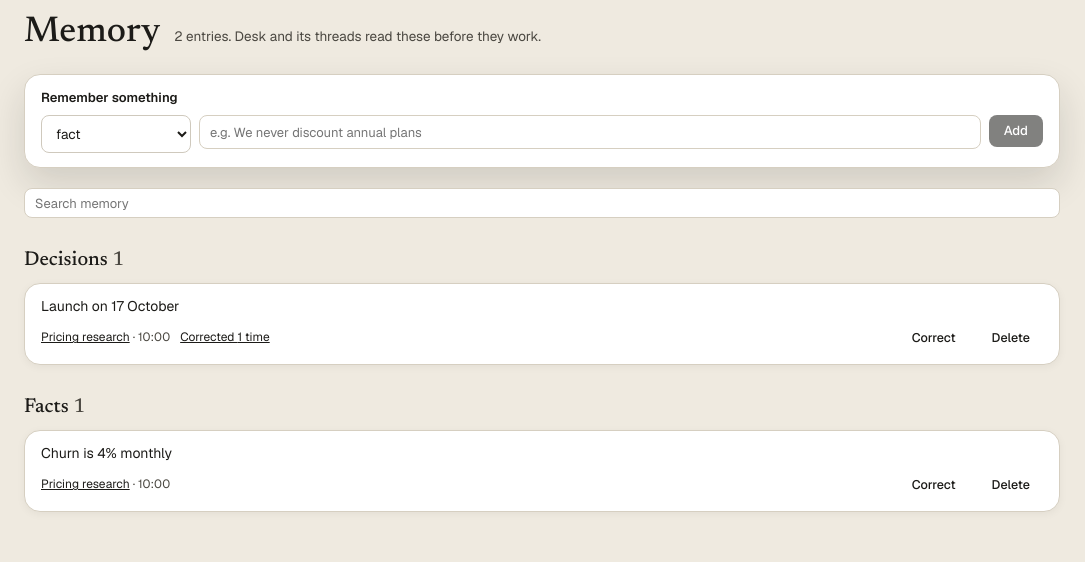
MemoryScreen › groups entries by kind with sources and the correction chain
Click the button "Corrected 1 time". click: (225, 338)
box: x1=180 y1=329 x2=270 y2=347
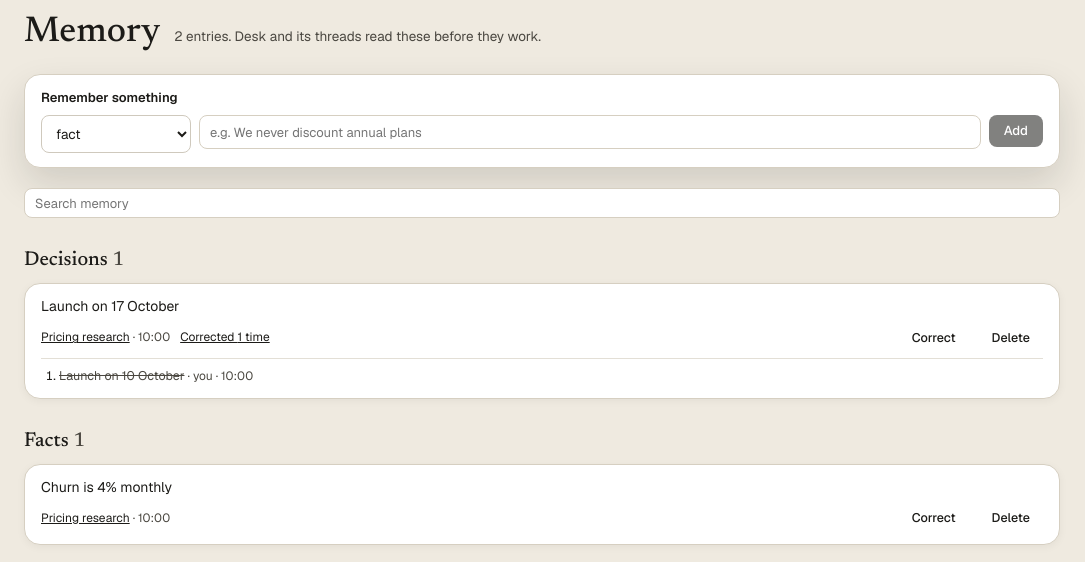
Expected: the element "Facts" is shown, x1=24 y1=418 x2=1060 y2=545
Expected: the list named "Earlier versions" shows "Launch on 10 October", x1=59 y1=367 x2=184 y2=384
